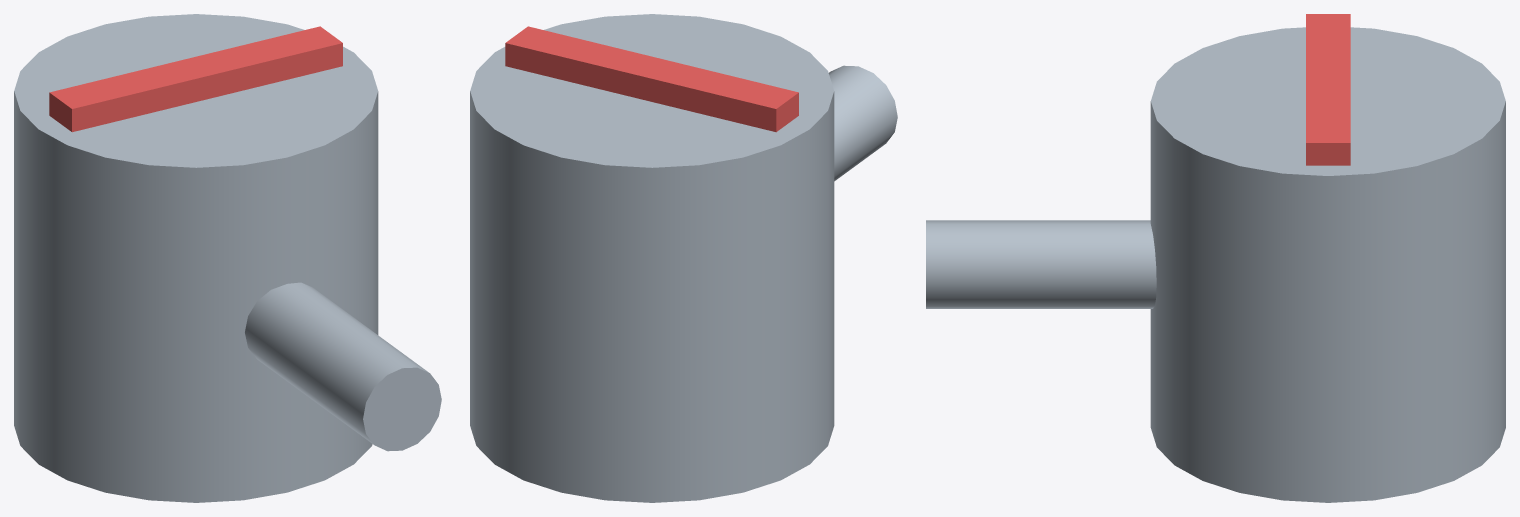
The model's file is motor.glb.
3 views of the same model, side by side, from view 1: azimuth 30°, elevation 25°; view 2: azimuth 150°, elevation 25°; view 3: azimuth 270°, elevation 25° (orthographic). The views are drawn at different scales.
Size of the model in its own units: 0.64 by 0.695 by 1.04.
